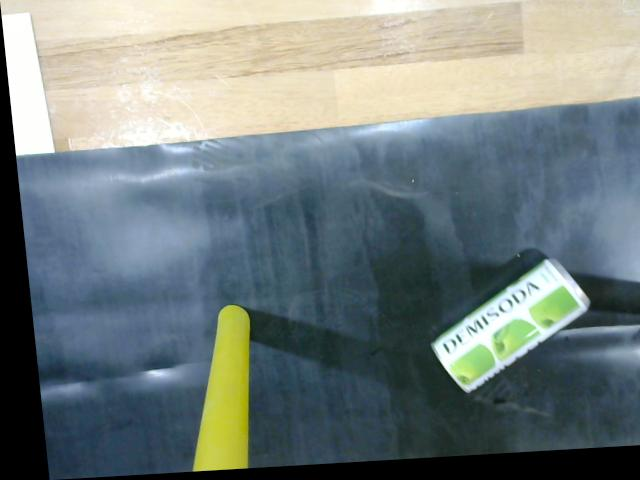can: (421, 254, 586, 405)
